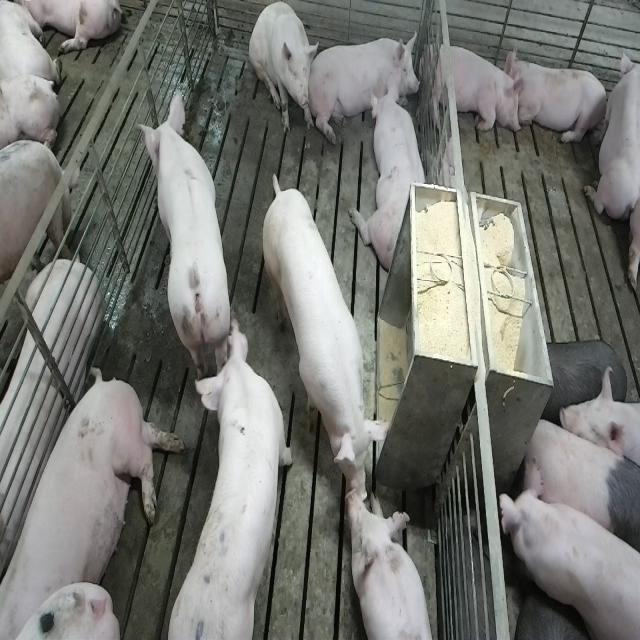Lateral_lying: (4, 363, 186, 635), (0, 260, 103, 579)
Sitting: (249, 2, 317, 138)
Standing: (164, 312, 296, 635), (260, 176, 390, 484), (138, 84, 233, 372), (497, 462, 638, 640), (519, 414, 638, 562), (0, 141, 77, 350)
Sternal_lying: (356, 85, 430, 274), (346, 491, 435, 640), (312, 28, 420, 136), (508, 52, 610, 149), (584, 38, 637, 224), (425, 38, 523, 138)
